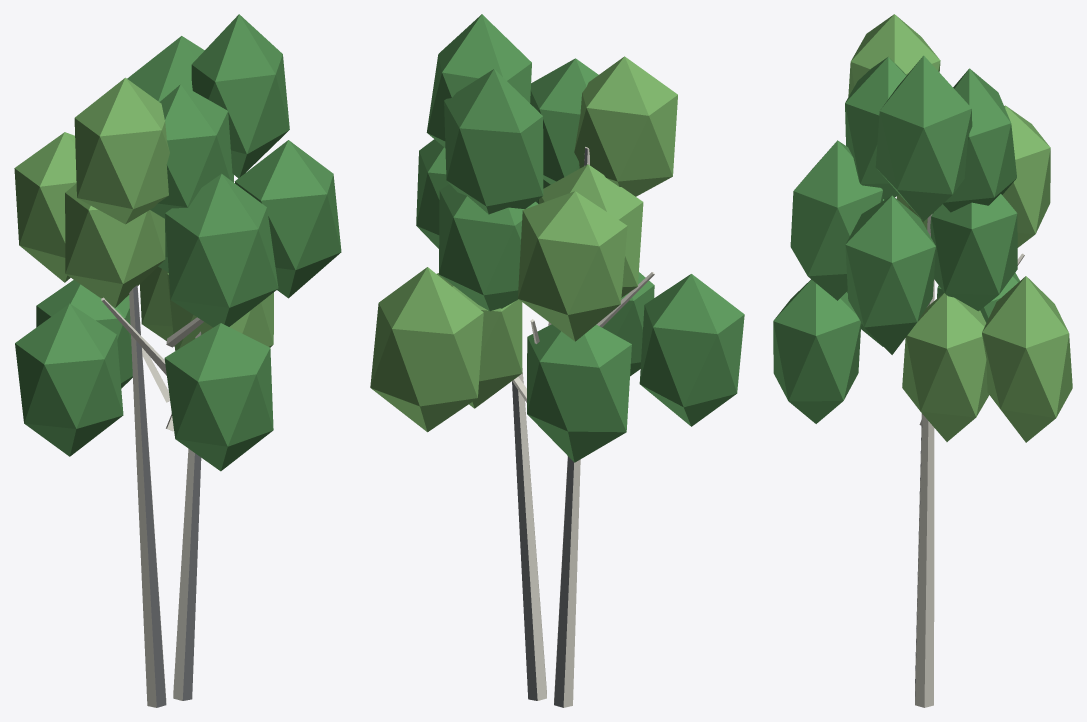
File: birch_02.glb
The picture shows the model from 3 angles, left to right: view 1: azimuth 30°, elevation 25°; view 2: azimuth 150°, elevation 25°; view 3: azimuth 270°, elevation 25°; orthographic projection.
Parts seen in each view (by area): view 1: Birch_02; view 2: Birch_02; view 3: Birch_02.
Boxes of the visible parts, x1,y1,x2,y2 form: Birch_02: (14,14,341,707); Birch_02: (370,14,744,707); Birch_02: (773,14,1072,707).
Bounding box in the file's own units: 7.28 × 14.84 × 5.97.
